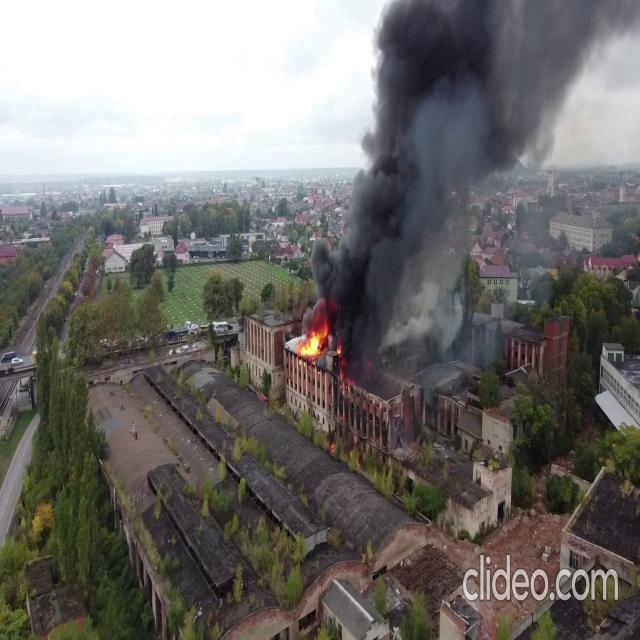Fire: (293, 319, 331, 361)
Smoke: (321, 0, 615, 355)
